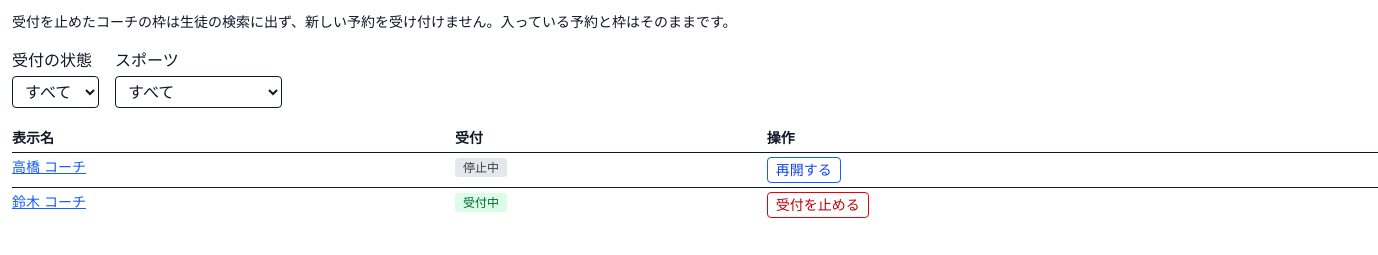
Test: 本部のコーチの受付 › 押したら行の中で確かめ、「やめる」なら送らない（ブラウザの confirm は使わない）
Click the button "受付を止める" at (818, 205), box [767, 192, 869, 218]
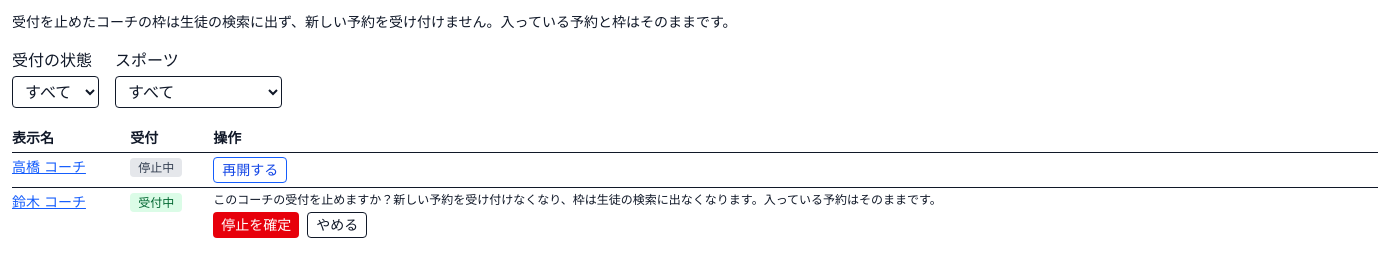
expect the element named "コーチの受付の確認" shows "このコーチの受付を止めますか？": met, box [213, 192, 942, 207]
Click the button "やめる" at (337, 225), box [307, 212, 367, 238]
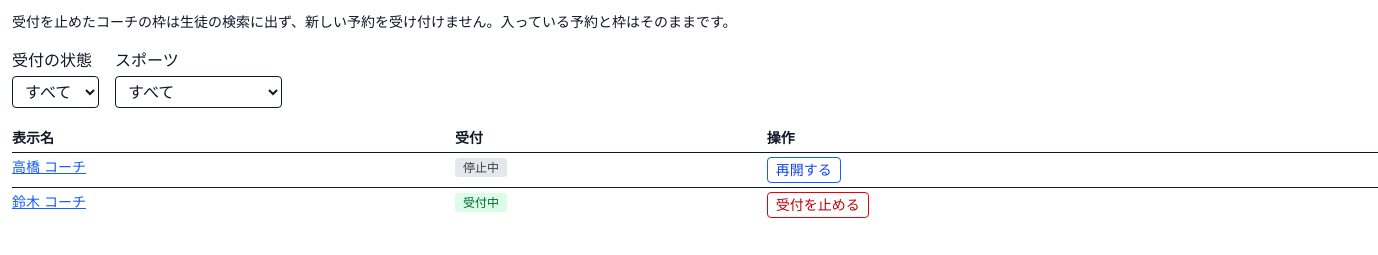
expect the button "受付を止める" is shown: met, box [767, 192, 869, 218]
